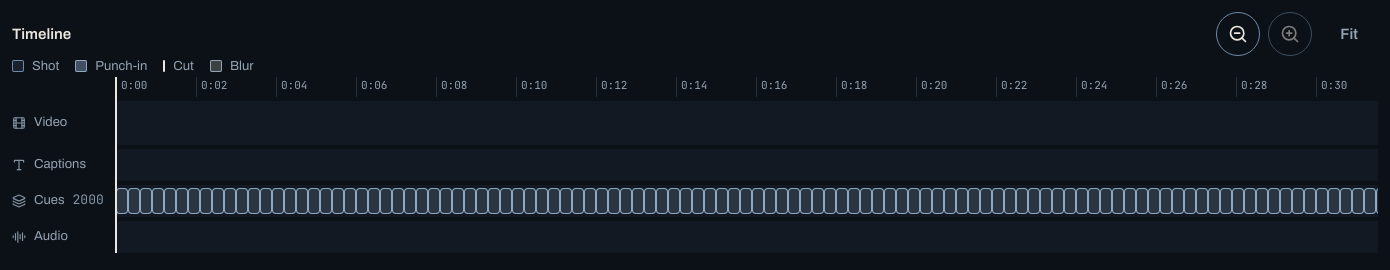
Test: Timeline zoom › starts at 40 px/s with only Zoom in disabled, and Fit disables Zoom out and Fit
This screenshot has width=1390, height=270.
Expected: the button named "Zoom in" is disabled, [1268,12,1312,56]
Expected: the button named "Zoom out" is enabled, [1216,12,1260,56]
Step 1. Click the button "Fit" → x=1349, y=34, box [1320,12,1378,56]
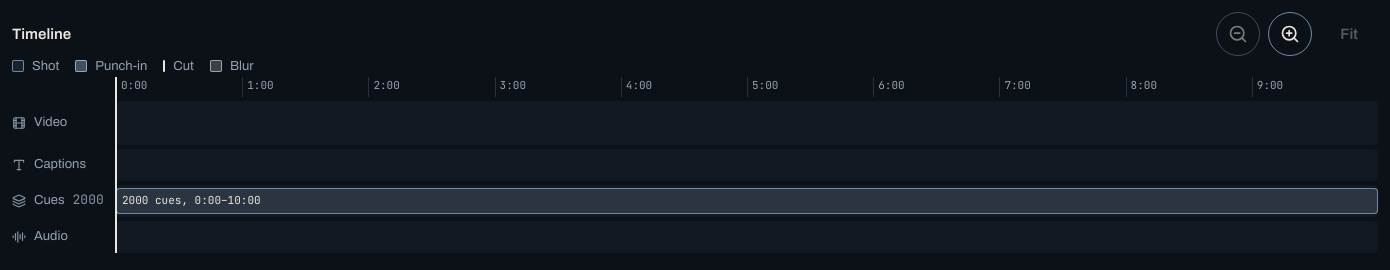
Result: the button named "Zoom out" is disabled at [1216,12,1260,56]
Result: the button "Fit" is disabled at [1320,12,1378,56]
Result: the button named "Zoom in" is enabled at [1268,12,1312,56]
